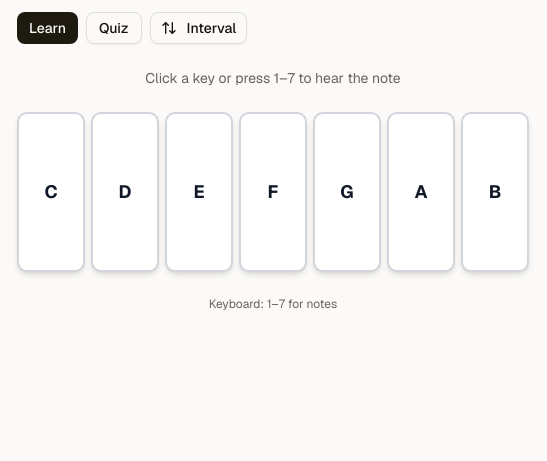
Scenario: EarTrainer › quiz: score updates on correct answer
The width and height of the screenshot is (547, 461).
Click the button with test id "mode-quiz": (114, 28) left=86, top=12, right=142, bottom=44
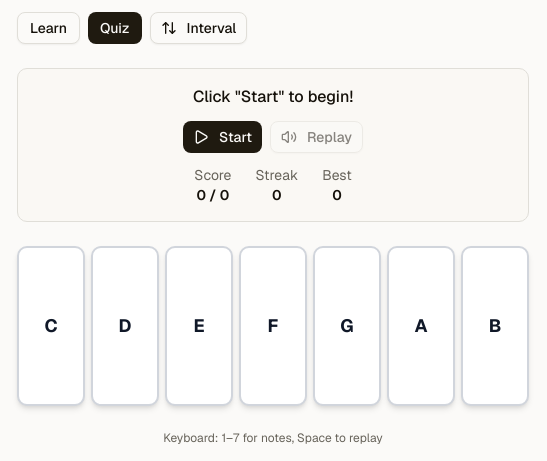
Click the button with test id "start-btn": (223, 137) left=183, top=121, right=262, bottom=153
Wait 600 ms
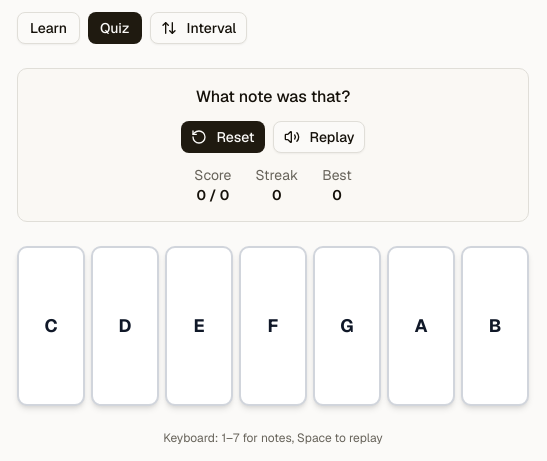
// Click the correct key
Click the button "D": (125, 326) left=91, top=246, right=159, bottom=406
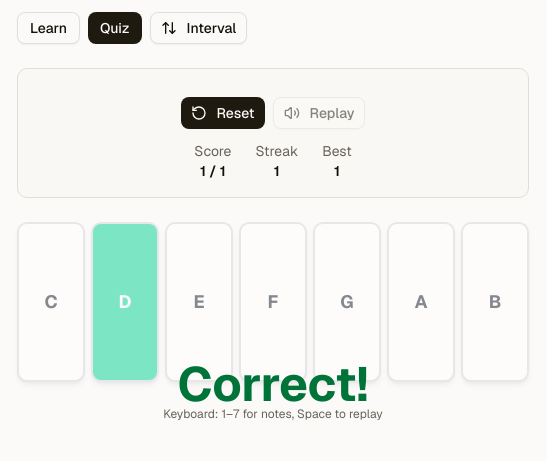
Expected: the text with test id "score-value" reads "1 / 1", left=200, top=162, right=226, bottom=180
Expected: the text with test id "streak-value" reads "1", left=274, top=162, right=280, bottom=180
